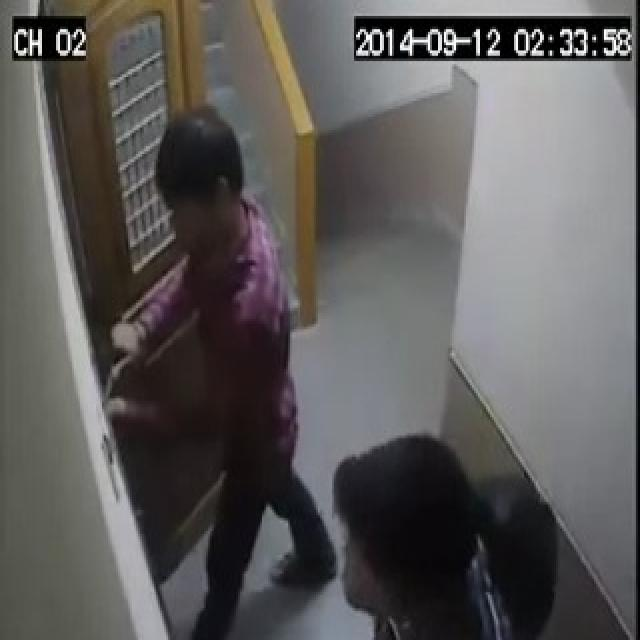thief: (69, 104, 521, 637)
